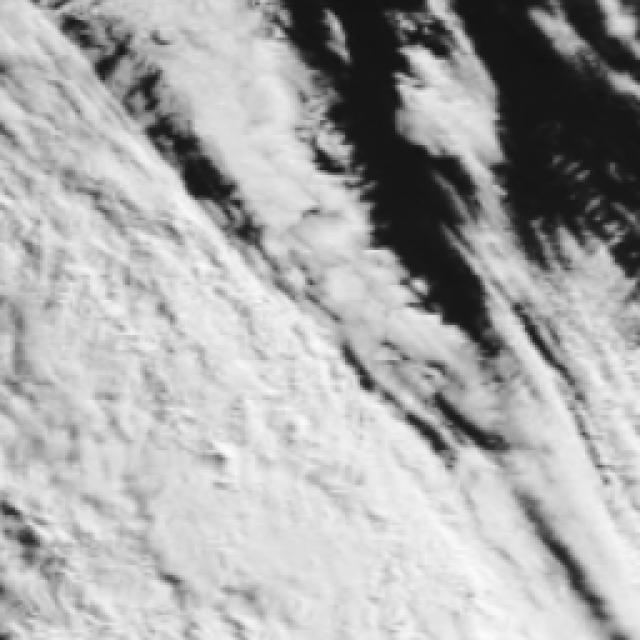CB: (221, 441, 430, 640), (35, 268, 252, 442), (66, 437, 251, 640), (340, 487, 505, 640)
